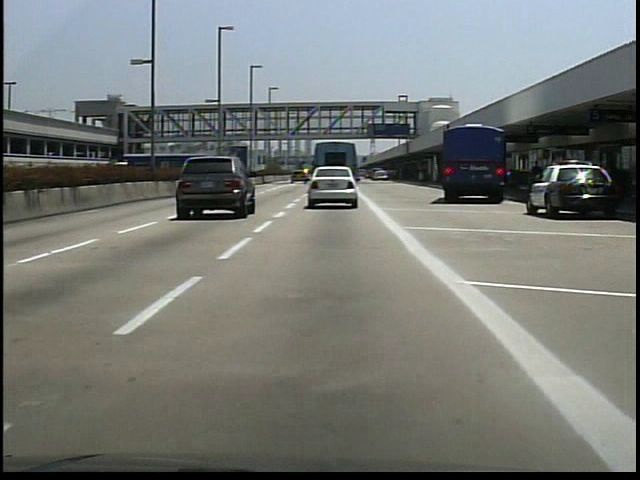person: (527, 154, 547, 200)
